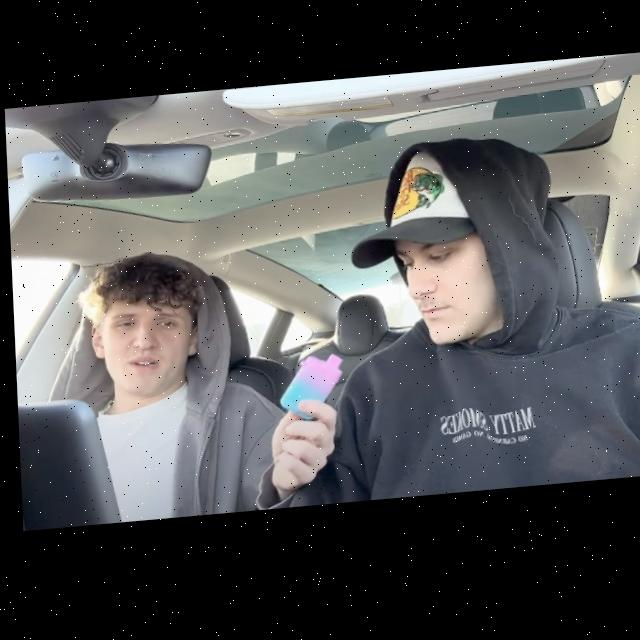vape: (275, 360, 342, 427)
